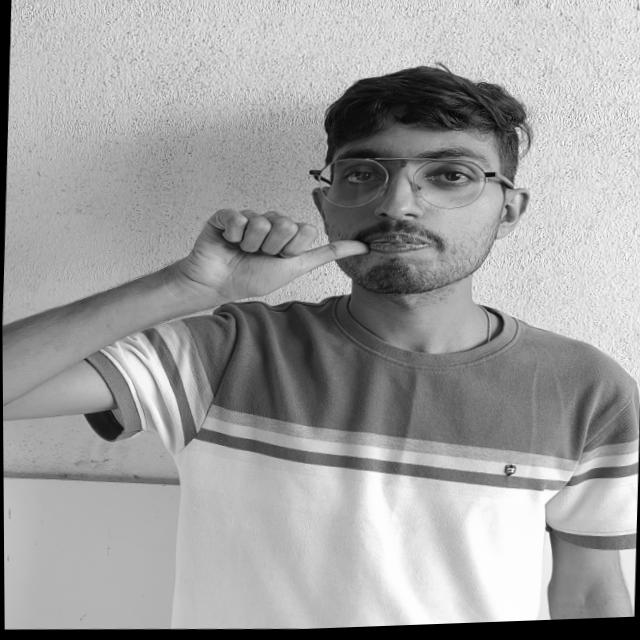Drink: (162, 198, 383, 320)
